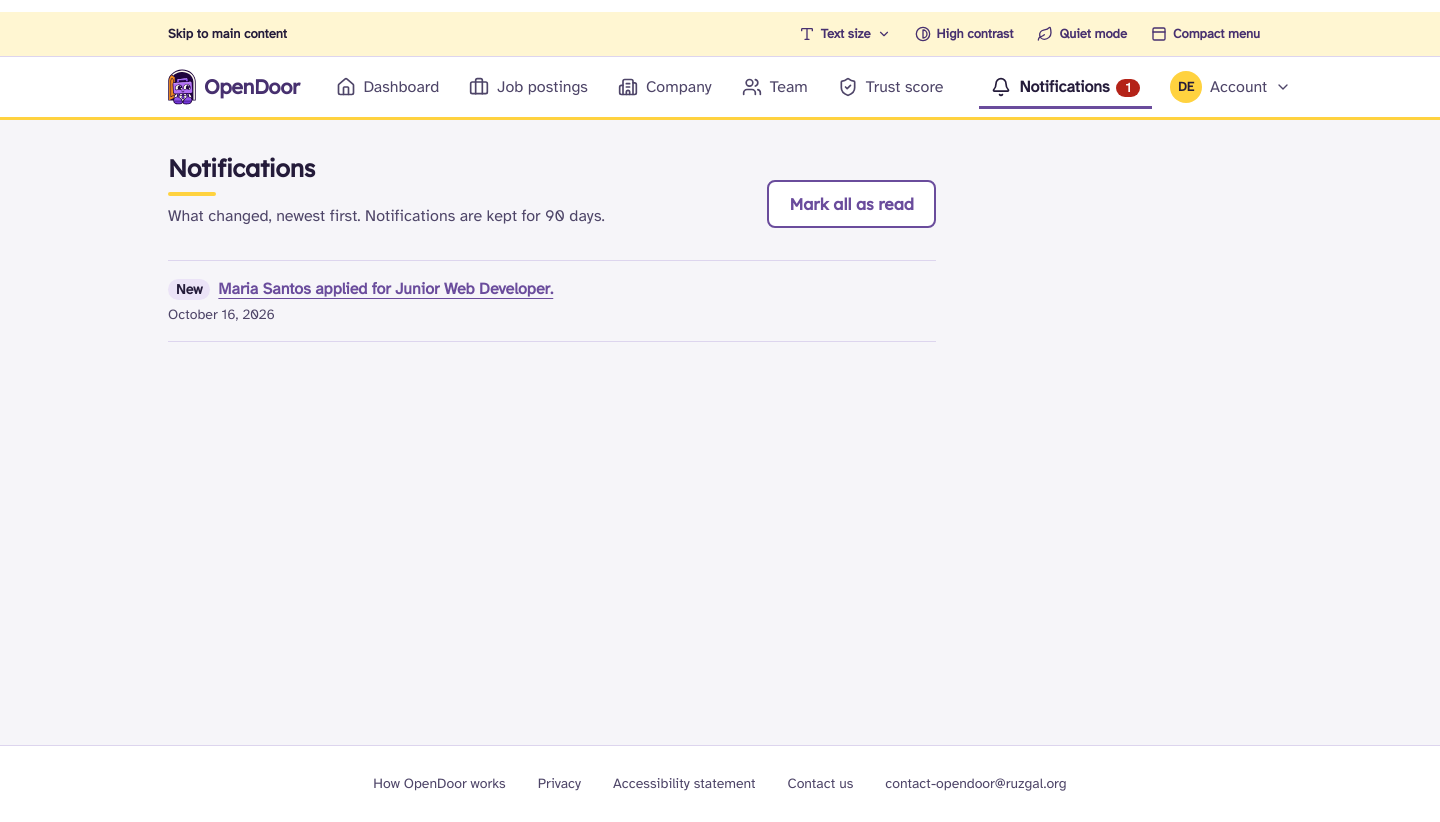
NotificationsPage › opening one marks it read and updates the count
Click the link "Maria Santos applied for Junior Web Developer.".
click(386, 289)  # box x1=218 y1=279 x2=553 y2=299
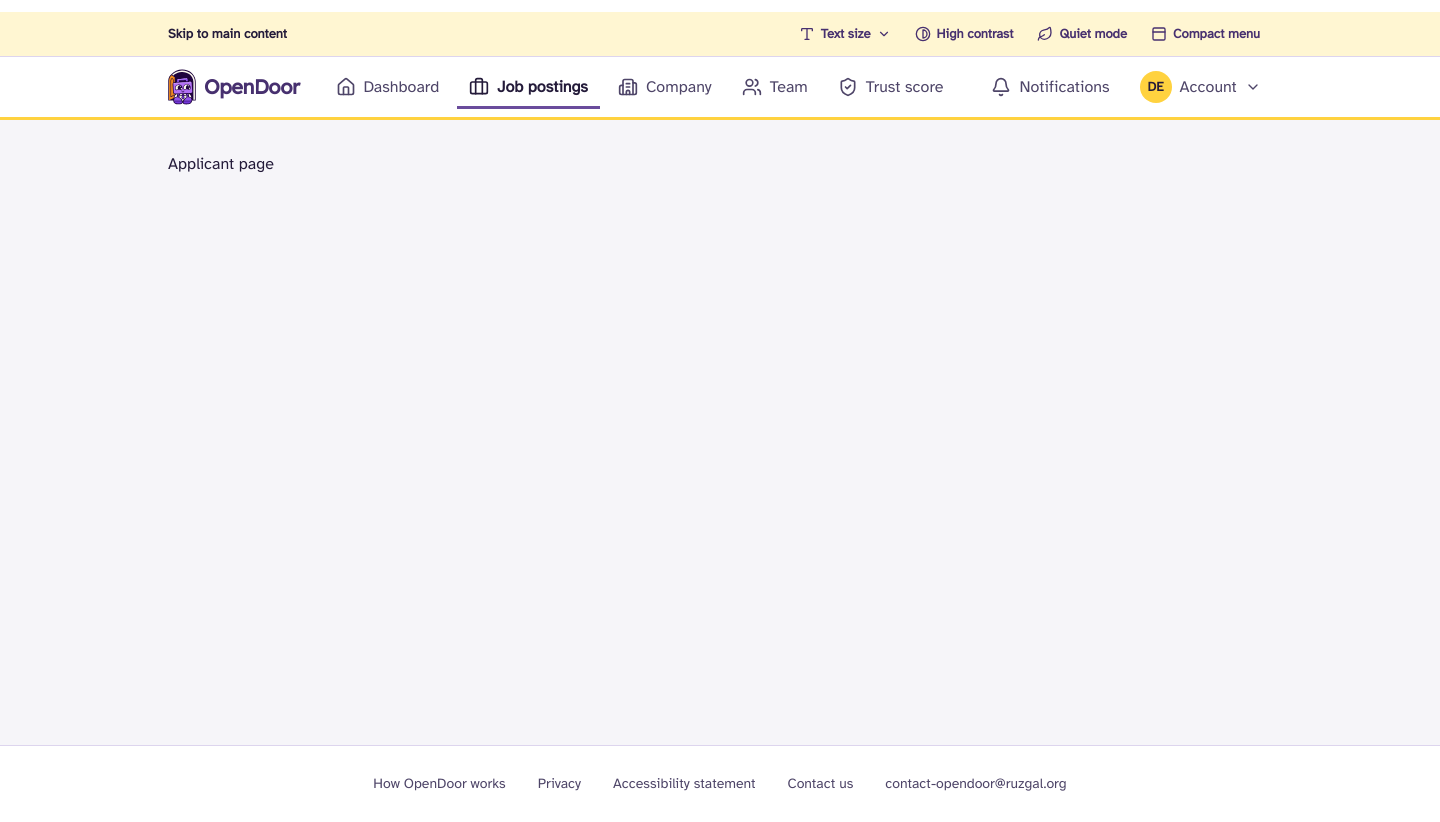
Expected: the text "Applicant page" is shown, x1=168 y1=154 x2=274 y2=174
Expected: the link "Notifications" is shown, x1=992 y1=77 x2=1110 y2=97
